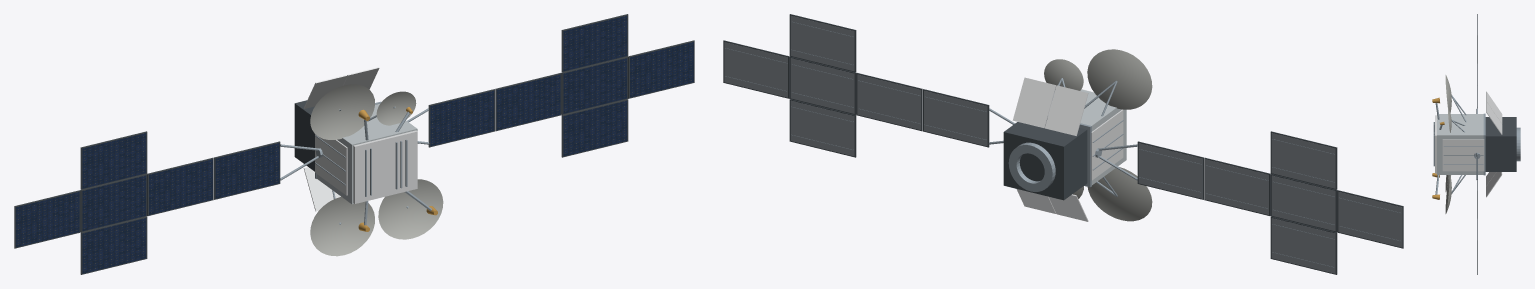
The model's file is ssl-1300-ia8.glb.
3 renders of one model, left to right at view 1: azimuth 30°, elevation 25°; view 2: azimuth 150°, elevation 25°; view 3: azimuth 270°, elevation 25°, orthographic. The views are drawn at different scales.
Parts seen in each view (by area): view 1: Solar cell panel (×12), Communications reflector (×4), Earth-facing deck, Solar panel frame (×6), Deployed radiator leaf (×3), Payload module, Radiator face, Service module; view 2: Rear array substrate (×12), Communications reflector (×3), Service module, Deployed radiator leaf (×4), Solar panel frame (×6), Radiator face, Launch adapter ring, Payload module; view 3: Service module, Payload module, Radiator face, Deployed radiator leaf (×4), Communications reflector (×3), Launch adapter ring, Module interface, Earth-facing deck.
Boxes of the visible parts, x1,y1,x2,y2 form: Solar cell panel (×12): (15, 15, 693, 273); Communications reflector (×4): (310, 84, 443, 256); Earth-facing deck: (353, 130, 417, 203); Solar panel frame (×6): (80, 14, 628, 274); Deployed radiator leaf (×3): (303, 67, 379, 211); Payload module: (316, 103, 417, 204); Radiator face: (315, 134, 347, 195); Service module: (294, 100, 314, 171); Rear array substrate (×12): (724, 15, 1402, 273); Communications reflector (×3): (1044, 49, 1152, 221); Service module: (1003, 120, 1087, 200); Deployed radiator leaf (×4): (1012, 77, 1088, 221); Solar panel frame (×6): (789, 14, 1337, 274); Radiator face: (1091, 109, 1123, 180); Launch adapter ring: (1008, 142, 1055, 191); Payload module: (1048, 89, 1126, 184); Service module: (1485, 117, 1516, 171); Payload module: (1437, 114, 1483, 174); Radiator face: (1442, 139, 1484, 171); Deployed radiator leaf (×4): (1486, 91, 1502, 197); Communications reflector (×3): (1445, 75, 1451, 213); Launch adapter ring: (1516, 127, 1520, 161); Module interface: (1483, 113, 1485, 175); Earth-facing deck: (1435, 115, 1436, 173).
Bounding box in the file's own units: 26.97 × 6.44 × 4.58.
Materials: 8 (1 with a texture image).
